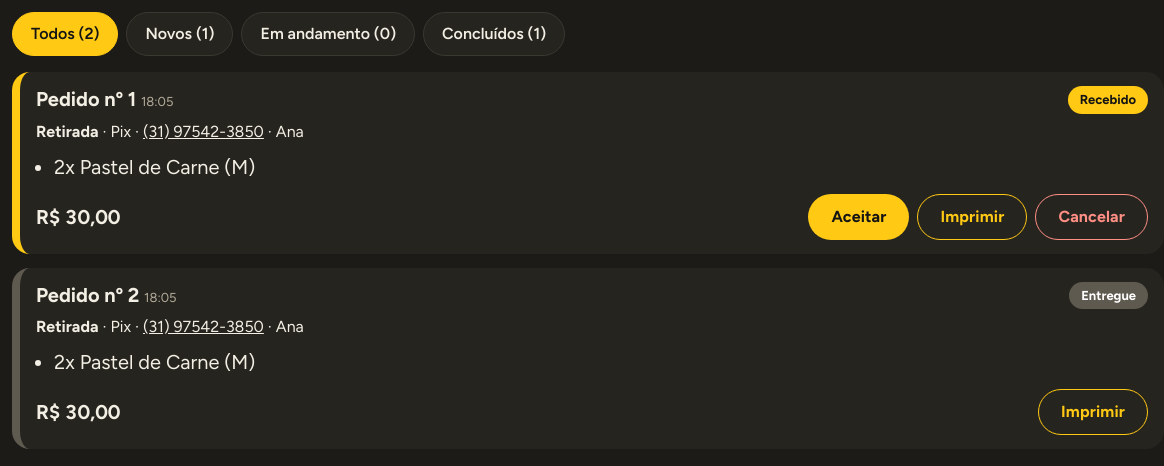
Test: filtro Novos mostra só os recebidos
Click the button "Novos (1)": (180,34) x1=126 y1=12 x2=234 y2=56
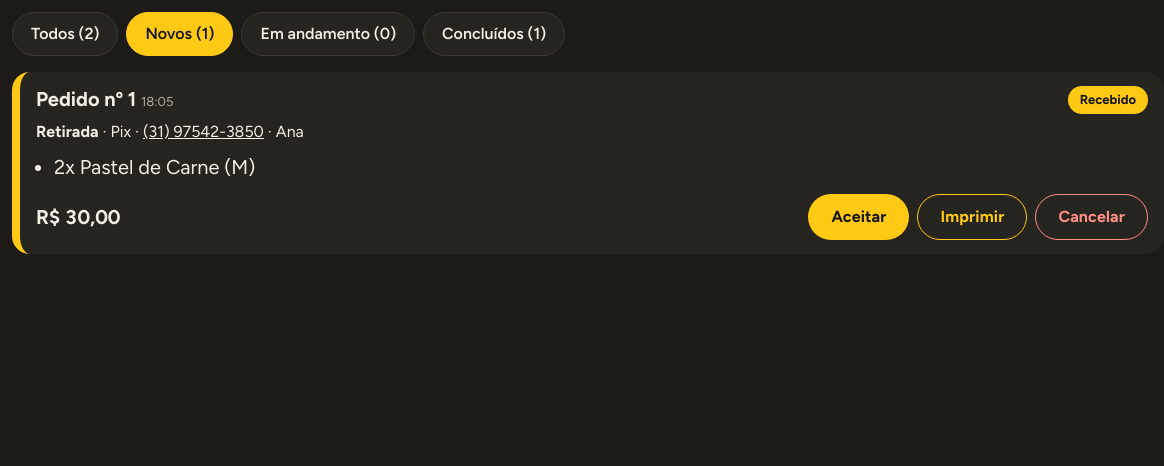
Click the button "Concluídos (1)": (494,34) x1=423 y1=12 x2=565 y2=56
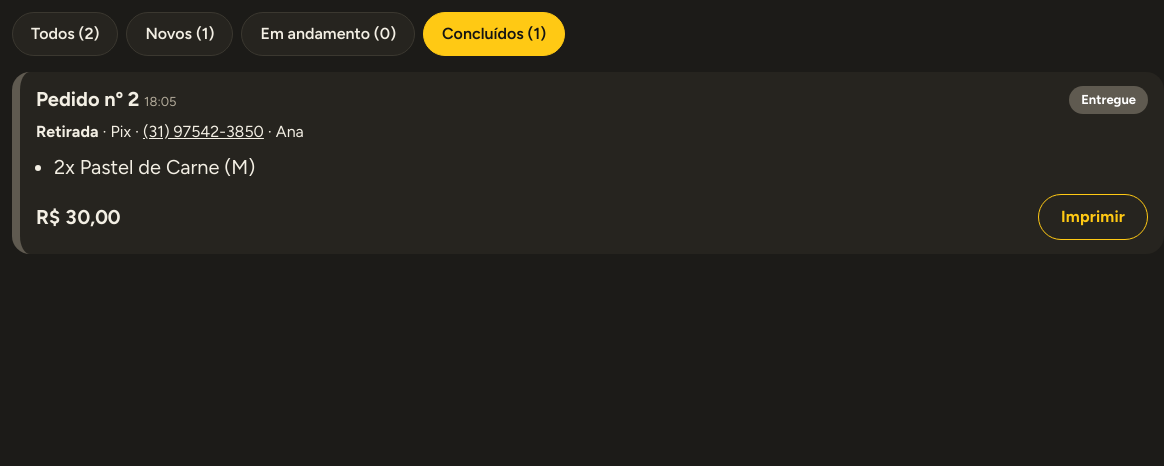
Check: the element "Pedido nº 2" is shown, box x1=12 y1=72 x2=1163 y2=254
